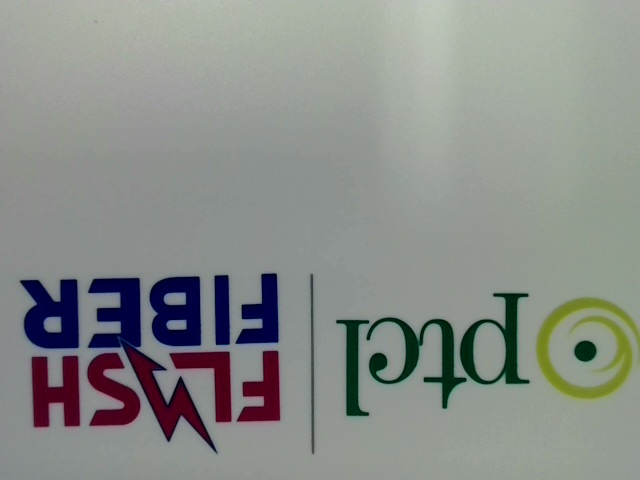BF_PTCL: (329, 281, 639, 418)
